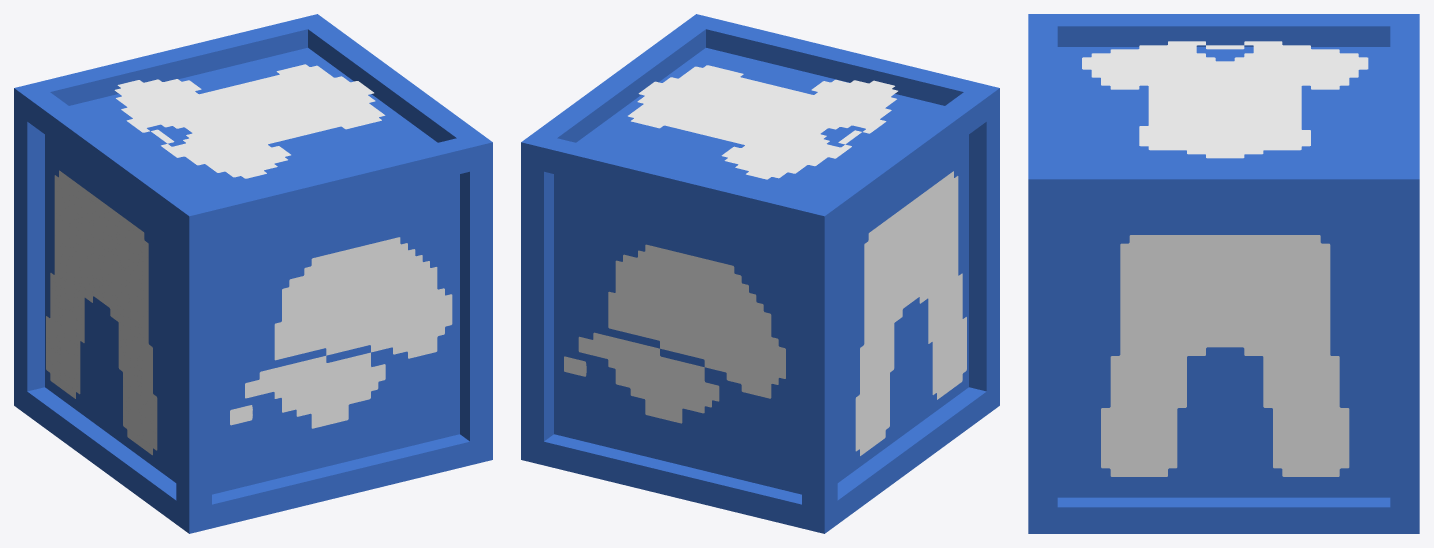
The model's file is Item_Cube.fbx.
The picture shows the model from 3 angles, left to right: view 1: azimuth 30°, elevation 25°; view 2: azimuth 150°, elevation 25°; view 3: azimuth 270°, elevation 25°; orthographic projection. The views are drawn at different scales.
Parts seen in each view (by area): view 1: Item_Cube; view 2: Item_Cube; view 3: Item_Cube.
Part boxes in pixels (x1=…): Item_Cube: x1=14, y1=14, x2=492, y2=533; Item_Cube: x1=521, y1=14, x2=999, y2=533; Item_Cube: x1=1028, y1=14, x2=1419, y2=533.
Size of the model in its own units: 601 by 600 by 600.
